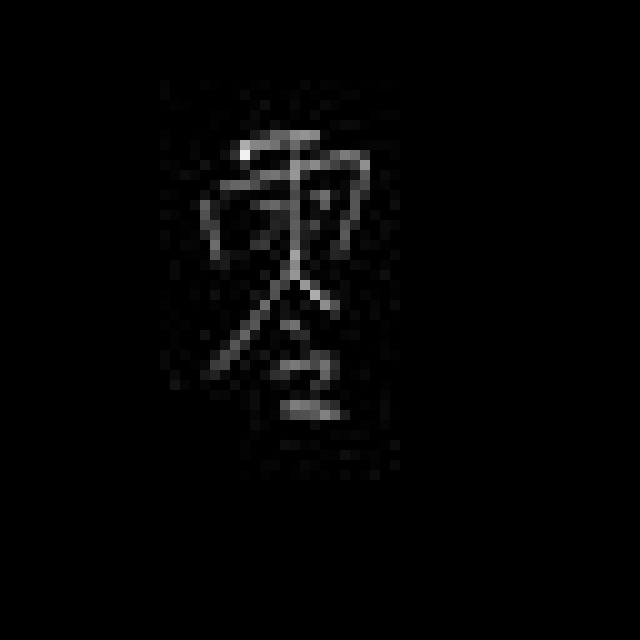0 -zero-: (182, 118, 384, 443)
